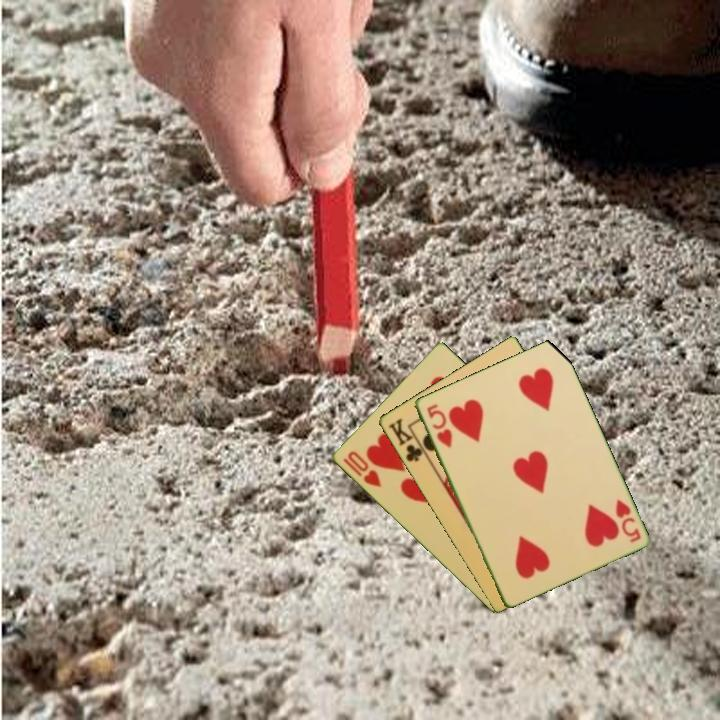10h: (339, 447, 384, 490)
5h: (423, 400, 455, 451), (611, 495, 643, 545)
Kc: (385, 415, 430, 465)
